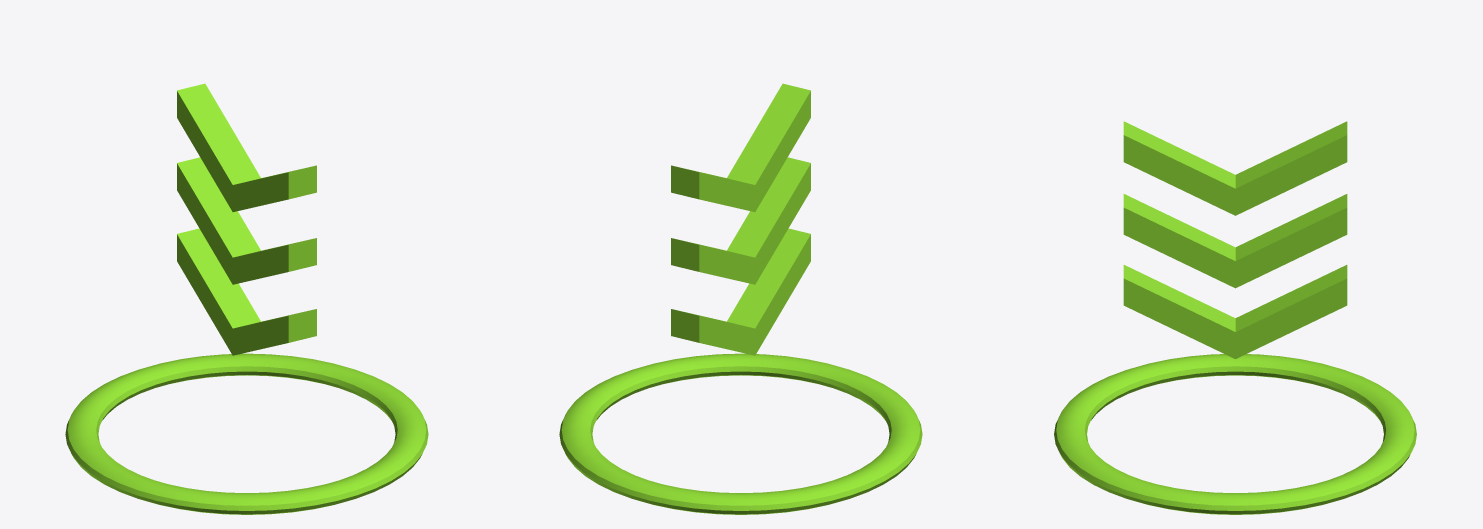
Rendered from Checkpoint.fbx.
3 views of the same model, side by side, from view 1: azimuth 30°, elevation 25°; view 2: azimuth 150°, elevation 25°; view 3: azimuth 270°, elevation 25° (orthographic).
Visible parts, largest first — view 1: Cylinder.014; view 2: Cylinder.014; view 3: Cylinder.014.
Boxes of the visible parts, left/top/right/bottom form: Cylinder.014: left=65, top=83, right=428, bottom=514; Cylinder.014: left=559, top=83, right=922, bottom=514; Cylinder.014: left=1054, top=121, right=1416, bottom=514.
Size of the model in its own units: 283 by 221 by 283.
1 material, 1 textured.
